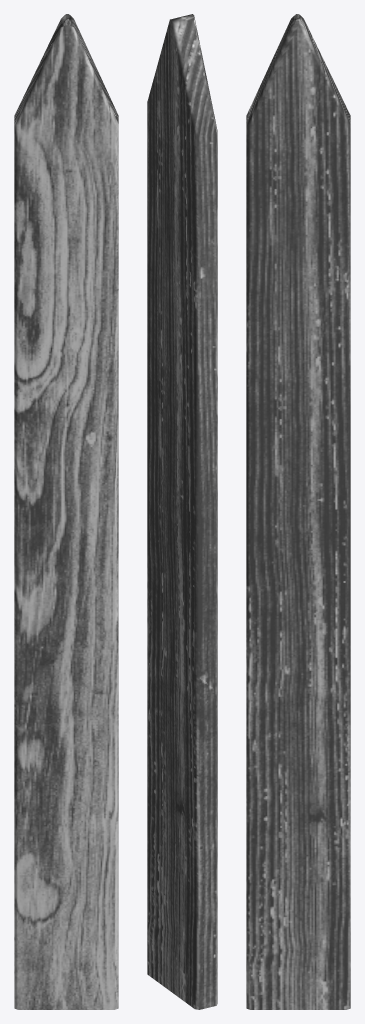
The model's file is SM_Fence_E1.fbx.
3 renders of one model, left to right at view 1: azimuth 90°, elevation 25°; view 2: azimuth 210°, elevation 25°; view 3: azimuth 270°, elevation 25°, orthographic.
Visible parts, largest first — view 1: SM_Fence_E1_LOD0; view 2: SM_Fence_E1_LOD0; view 3: SM_Fence_E1_LOD0.
Boxes of the visible parts, bbox=[...] form: SM_Fence_E1_LOD0: bbox=[14, 14, 118, 1009]; SM_Fence_E1_LOD0: bbox=[147, 14, 217, 1009]; SM_Fence_E1_LOD0: bbox=[246, 14, 350, 1009].
Bounding box in the file's own units: 2.22 × 8.65 × 90.26.
Materials: 1 (1 with a texture image).
